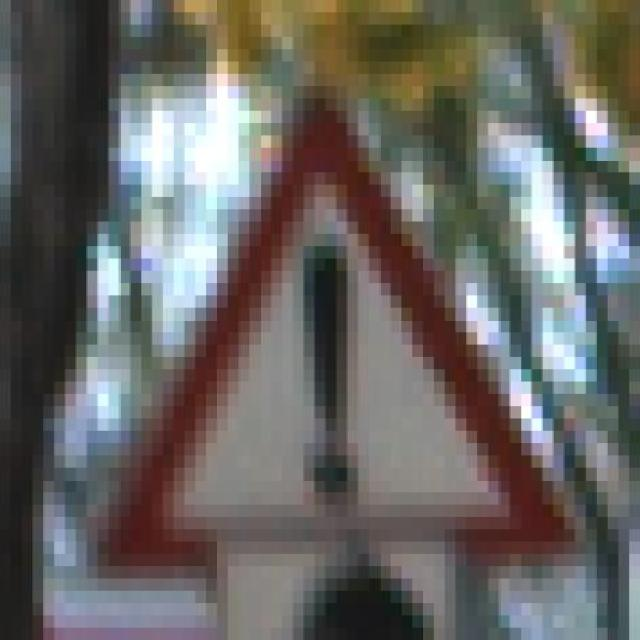Attention Please-: (65, 86, 608, 603)
